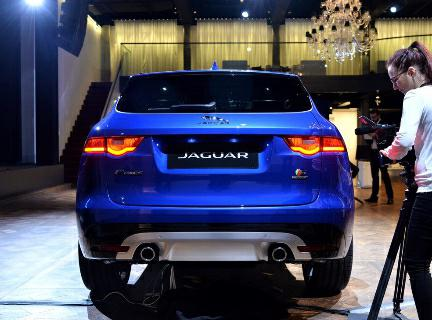捷豹-C-X16: (69, 67, 360, 302)
